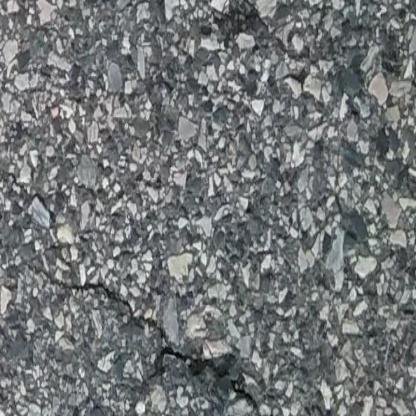Cracks: (69, 280, 293, 416)
